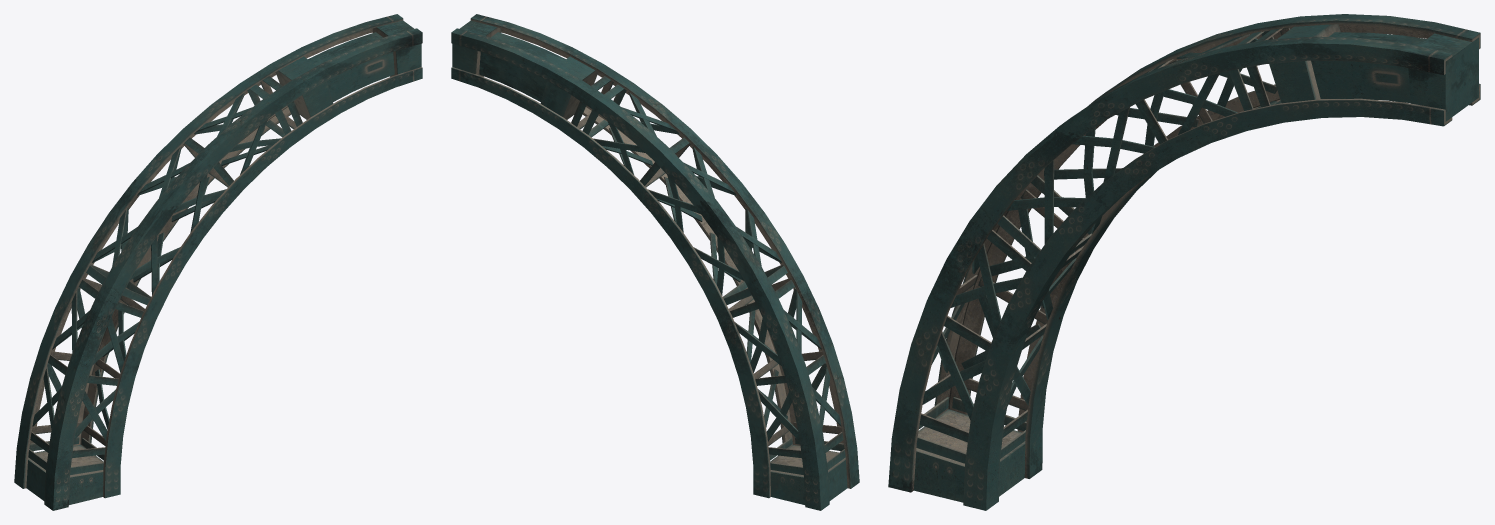
File: SM_PillarFrameBend.FBX
3 views of the same model, side by side, from view 1: azimuth 30°, elevation 25°; view 2: azimuth 150°, elevation 25°; view 3: azimuth 330°, elevation 25° (orthographic). The views are drawn at different scales.
Parts seen in each view (by area): view 1: SM_PillarFrameBend; view 2: SM_PillarFrameBend; view 3: SM_PillarFrameBend.
Boxes of the visible parts, left/top/right/bottom form: SM_PillarFrameBend: left=14, top=14, right=422, bottom=510; SM_PillarFrameBend: left=451, top=14, right=859, bottom=510; SM_PillarFrameBend: left=888, top=14, right=1480, bottom=510.
Bounding box in the file's own units: 559 × 100 × 542.
